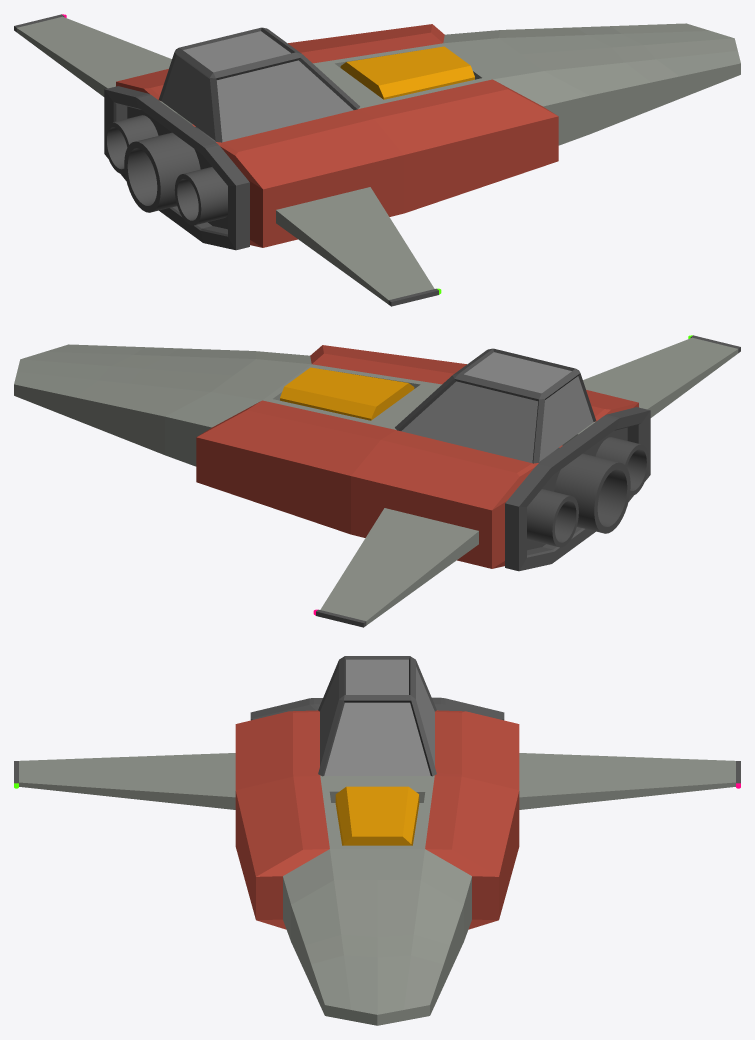
Rendered from spaceship.fbx.
3 renders of one model, top to bottom at view 1: azimuth 30°, elevation 25°; view 2: azimuth 150°, elevation 25°; view 3: azimuth 270°, elevation 25°, orthographic. The views are drawn at different scales.
Visible parts, largest first — view 1: Cube, Cube.001, Cube.002, Cylinder, Cylinder.001, Cylinder.002; view 2: Cube, Cube.001, Cube.002, Cylinder, Cylinder.002, Cylinder.001; view 3: Cube, Cube.001, Cube.002.
Part boxes in pixels (x1,y1,x2,y2): Cube: (104,23,740,250); Cube.001: (14,14,441,306); Cube.002: (340,46,474,99); Cylinder: (124,127,215,212); Cylinder.001: (174,167,227,225); Cylinder.002: (104,115,158,173); Cube: (14,344,650,571); Cube.001: (313,335,740,627); Cube.002: (280,367,414,420); Cylinder: (539,448,630,533); Cylinder.002: (527,489,578,547); Cylinder.001: (595,437,649,495); Cube: (235,656,519,1025); Cube.001: (14,753,740,809); Cube.002: (335,786,419,845).
Size of the model in its own units: 329 by 80.98 by 363.
